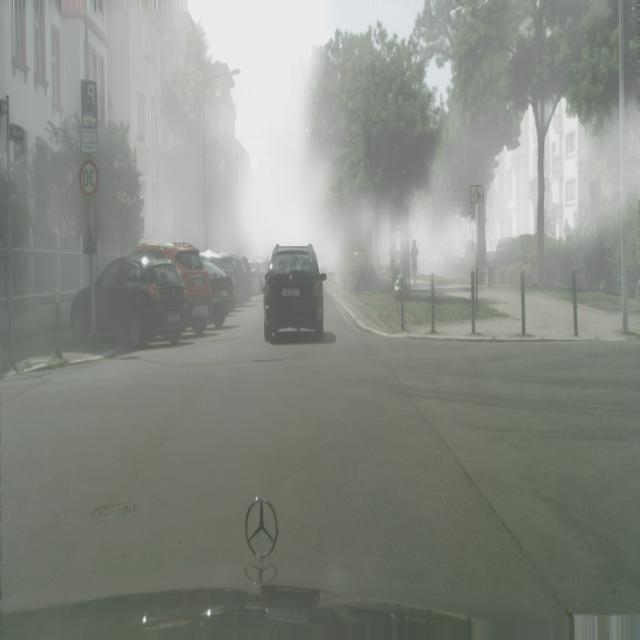bus: (410, 238, 418, 286)
person: (70, 254, 188, 349), (132, 241, 213, 336), (263, 243, 326, 342), (199, 252, 236, 328), (206, 251, 243, 307), (234, 255, 255, 303), (247, 256, 268, 292)
